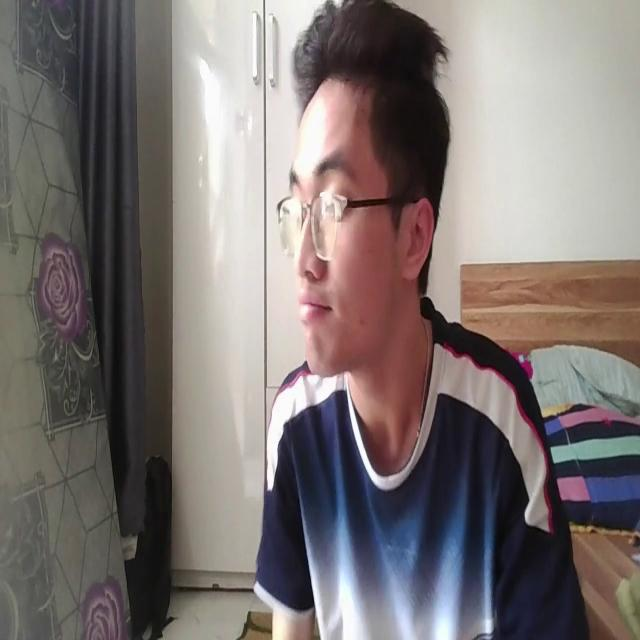student: (250, 0, 590, 640)
